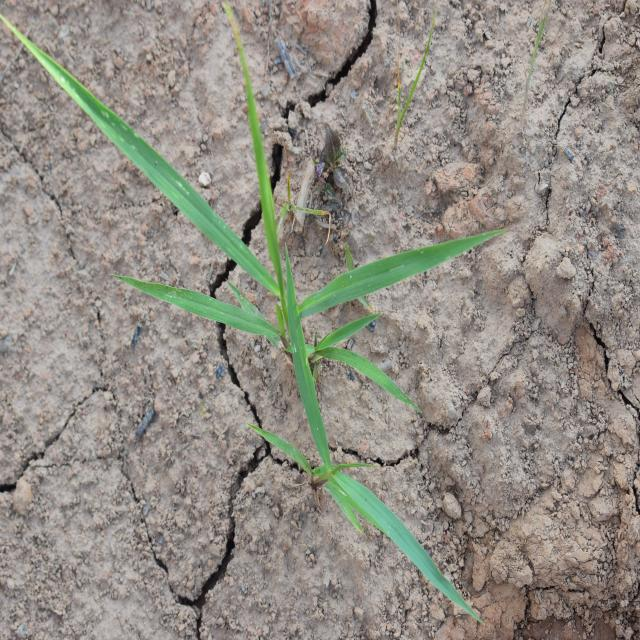green_foxtail: (72, 76, 472, 404), (275, 338, 460, 584)
